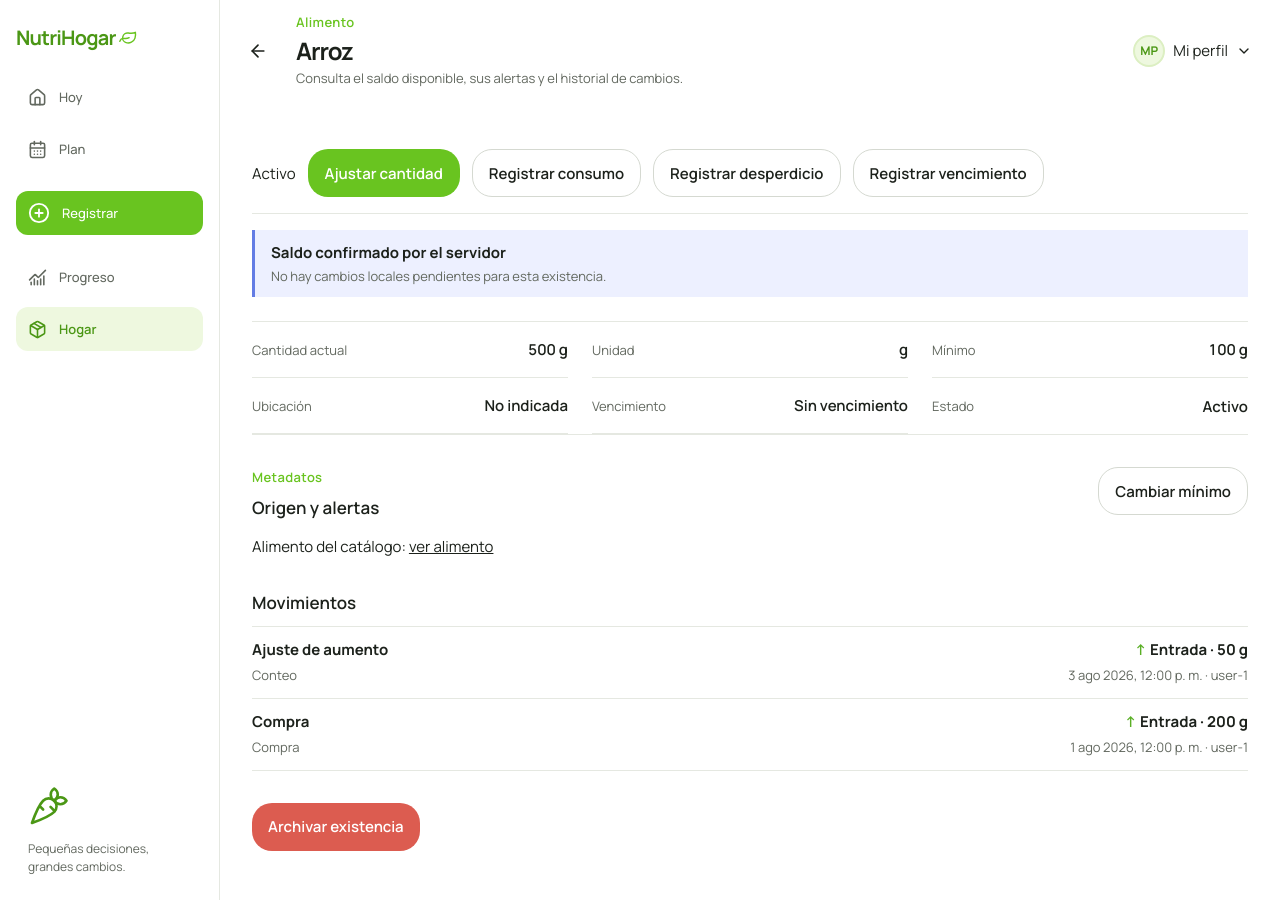
Test: InventoryDetailPage › shows inventory metadata, traceability and movements in descending order
Expected: the heading "Arroz" is shown, [296,34,353,67]
Expected: the text "500 g" is shown, [528,339,568,360]
Click the button "Registrar consumo". click: (556, 173)
box: [472,149,641,197]
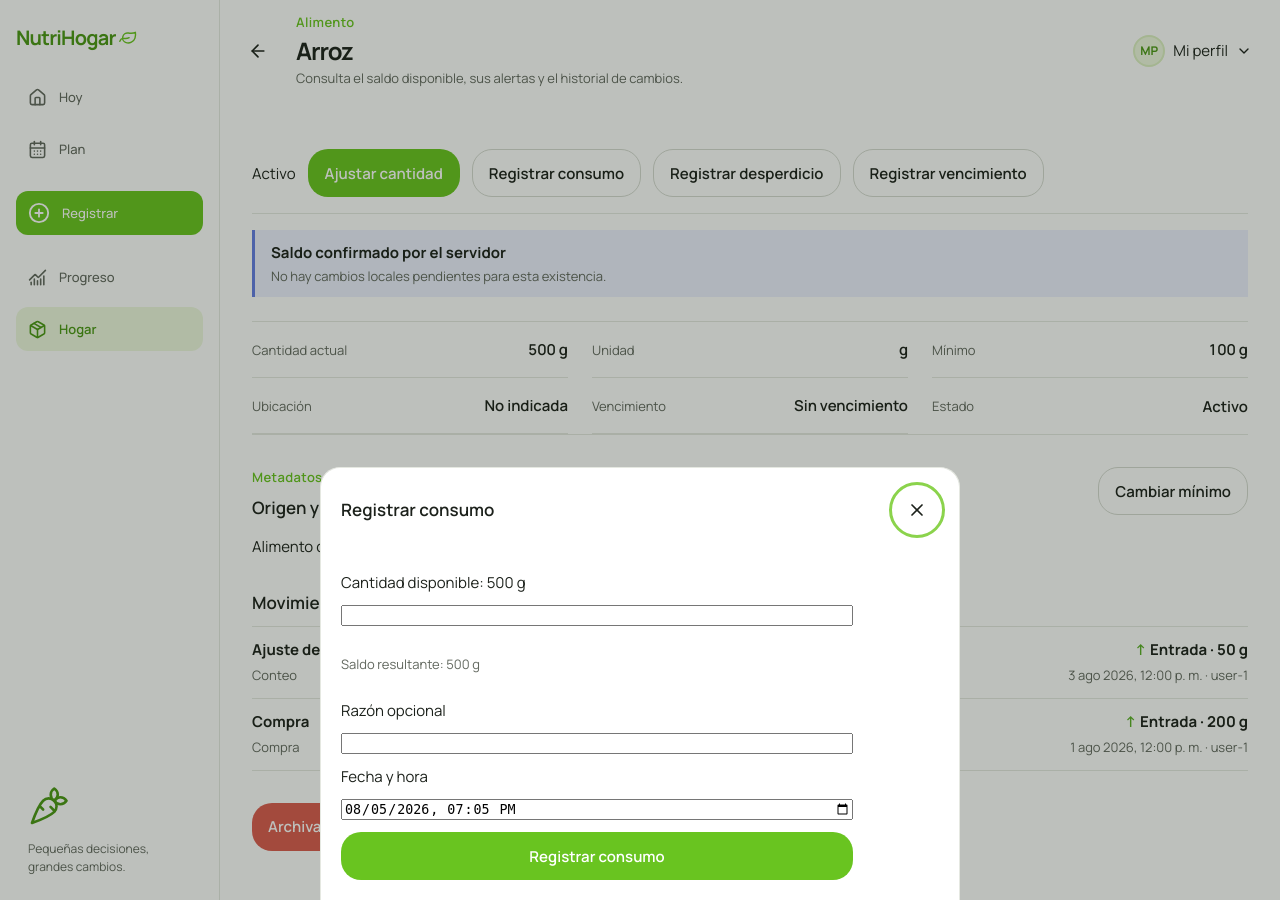
Expected: the dialog "Registrar consumo" is shown, [320,467,960,899]
Type "-1" into the number field labelled "Cantidad disponible: 500 g". click: (597, 615)
box: [341,605,853,626]
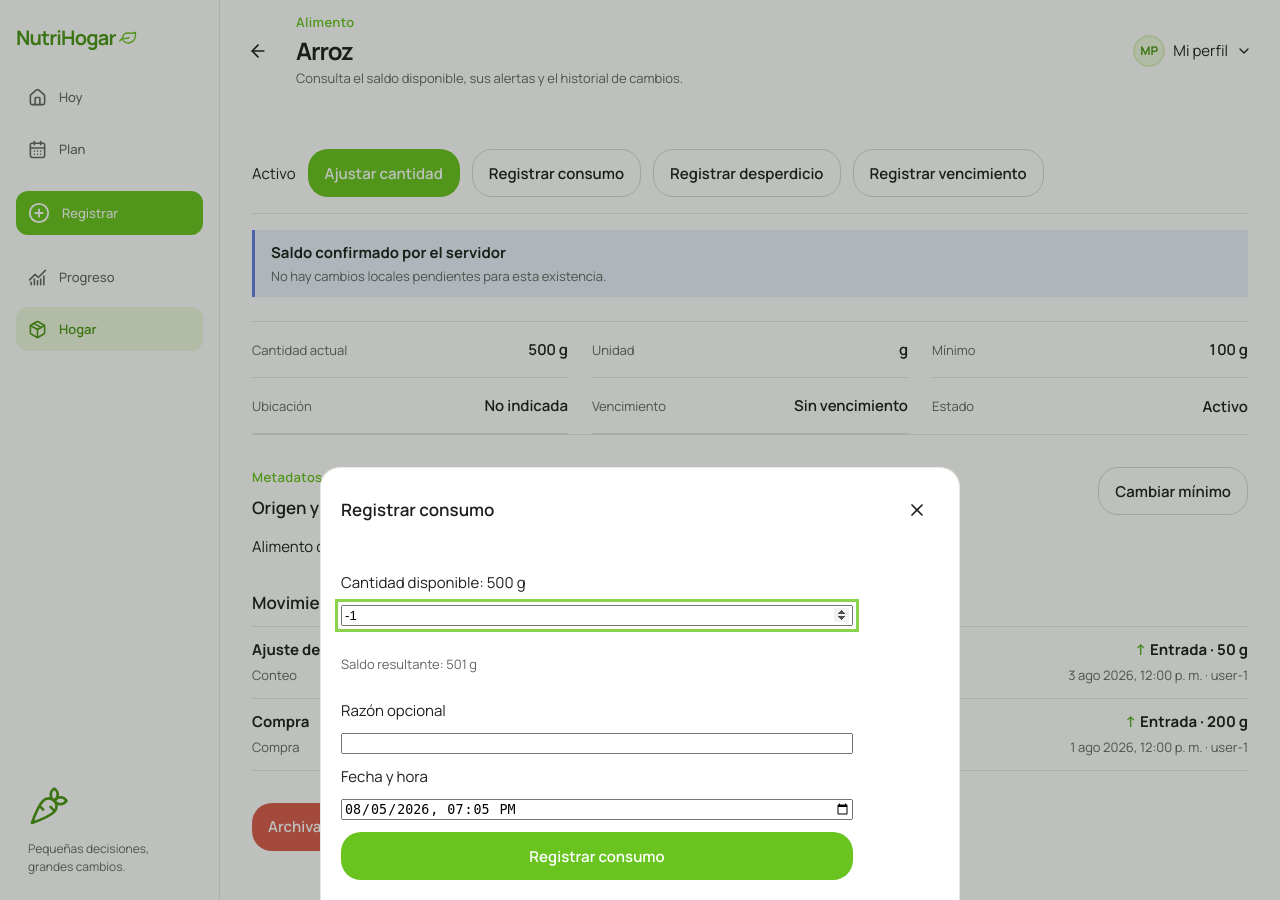
Click the button "Registrar consumo". click: (597, 856)
box: [341,832,853,880]
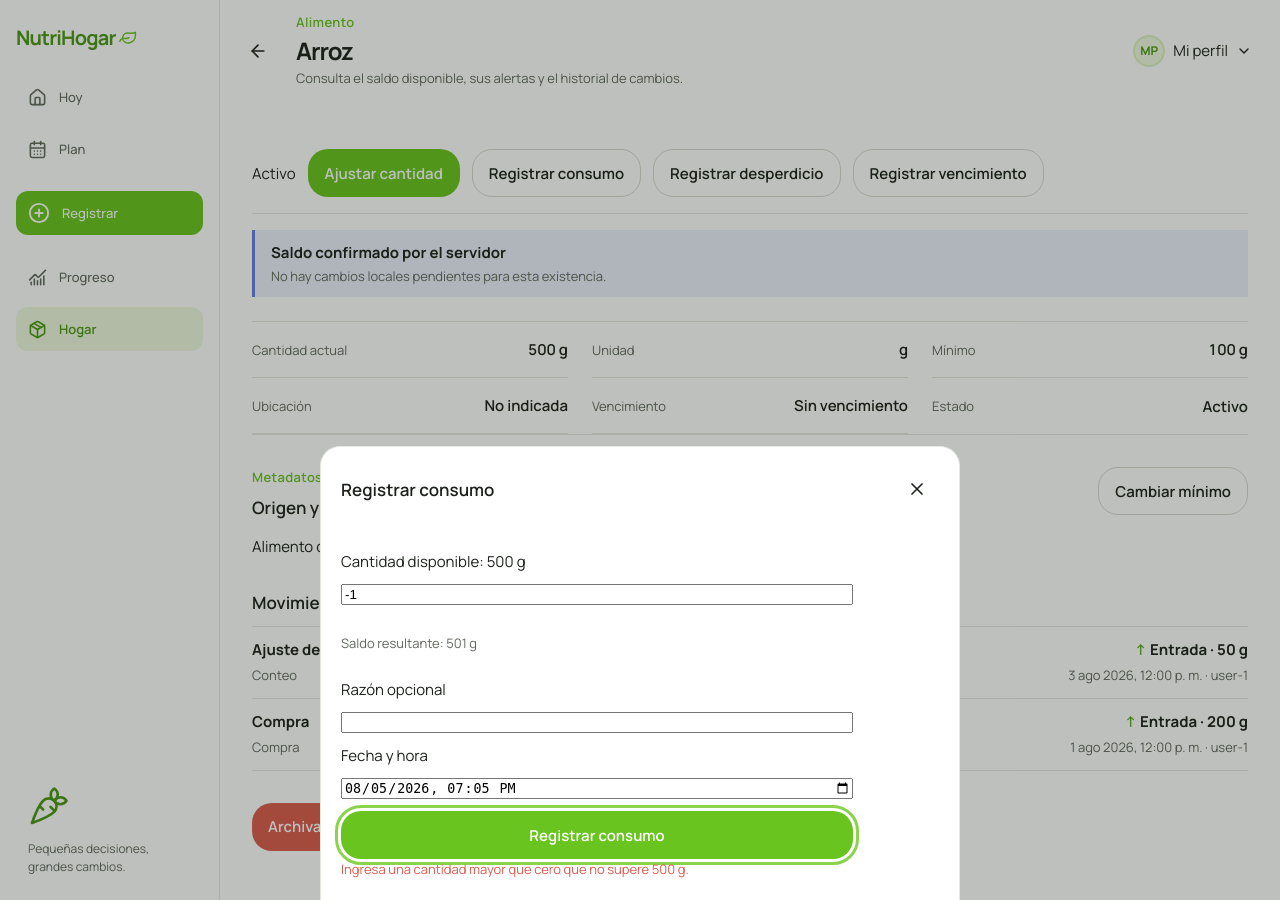
Expected: the message shows "Ingresa una cantidad mayor que cero", [341,860,689,878]
